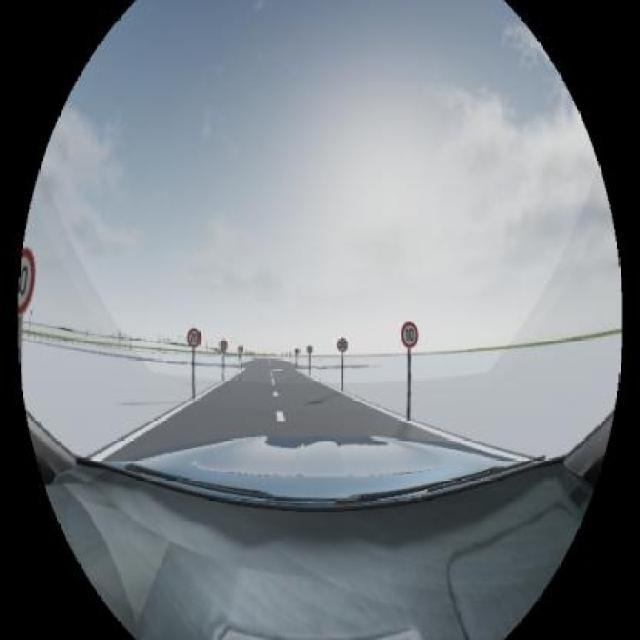forb_speed_over_10: (402, 319, 419, 347)
forb_speed_over_20: (187, 328, 201, 347)
